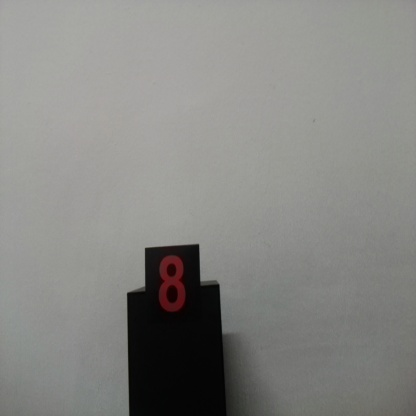id_8: (144, 247, 200, 330)
